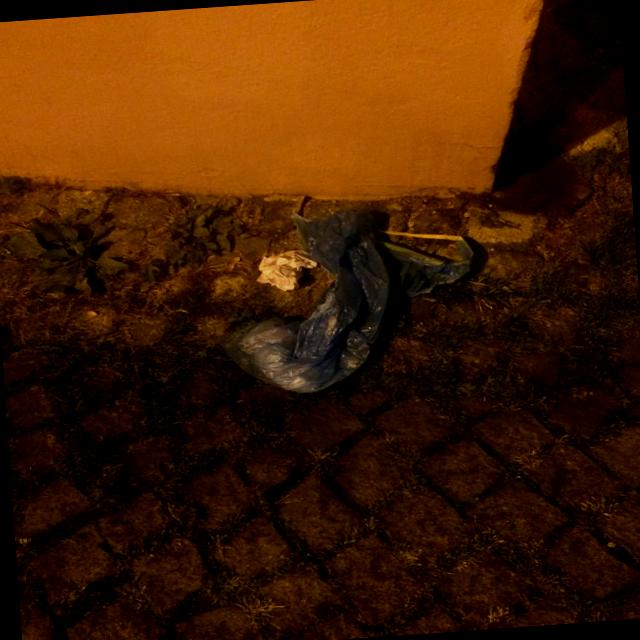Trash: (226, 199, 488, 399)
